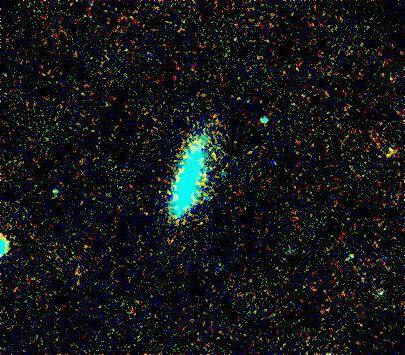star: (377, 141, 405, 171)
